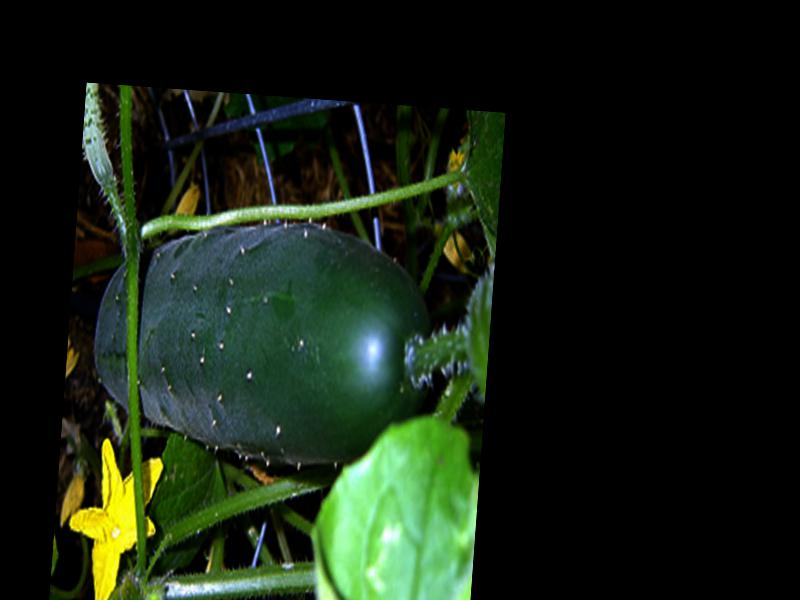Cucumber: (89, 210, 444, 474)
